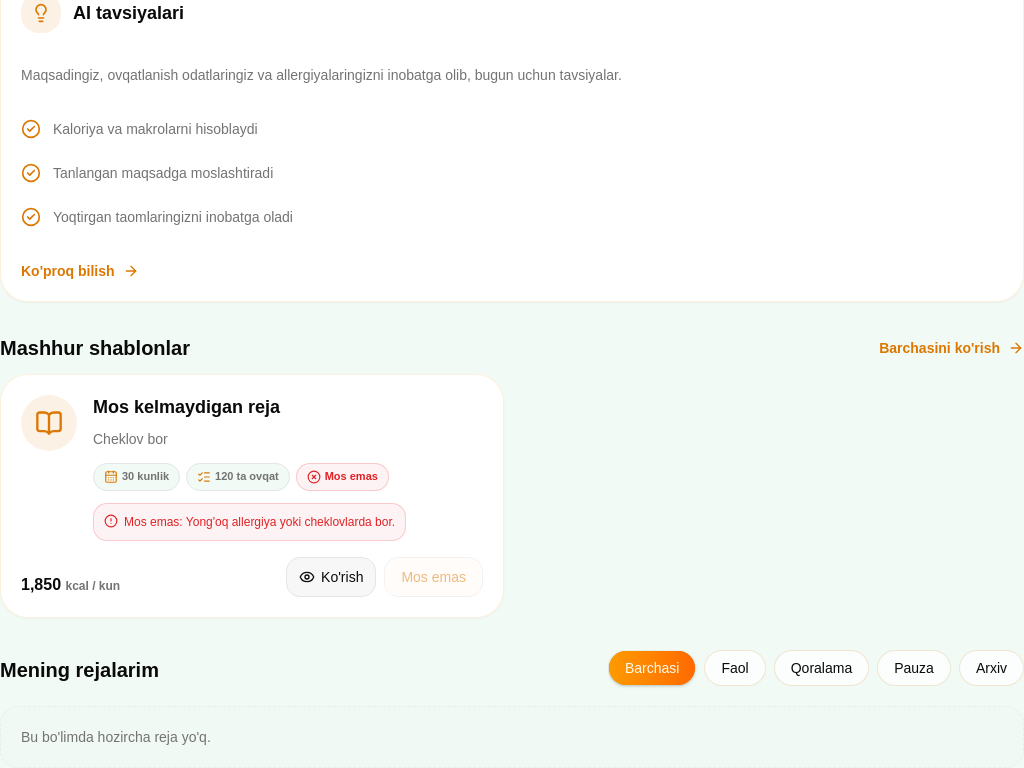
it: NutritionPlansView › shows why an incompatible admin template cannot be selected
The width and height of the screenshot is (1024, 768).
(page scrolled)
Expected: the button "Mos emas" is disabled, [384,556,483,596]
Expected: the text "Mos emas: Yong'oq allergiya yoki cheklovlarda bor." is shown, [124,512,395,532]
Click the button "Ko'rish" at (331, 576), box [286,556,376,596]
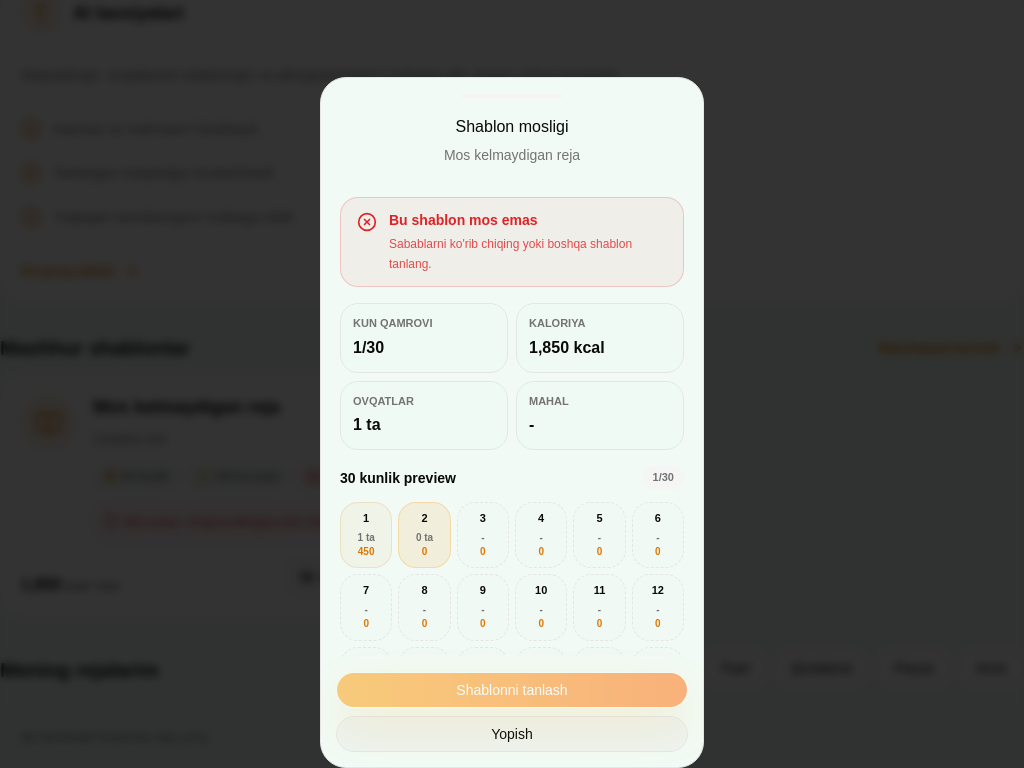
Now the dialog shows "Bu shablon mos emas", box [389,212,538,228]
Now the dialog shows "Boshqa shablon tanlang", box [389,237,632,271]
Now the button "Shablonni tanlash" is disabled, box [336,672,688,708]
